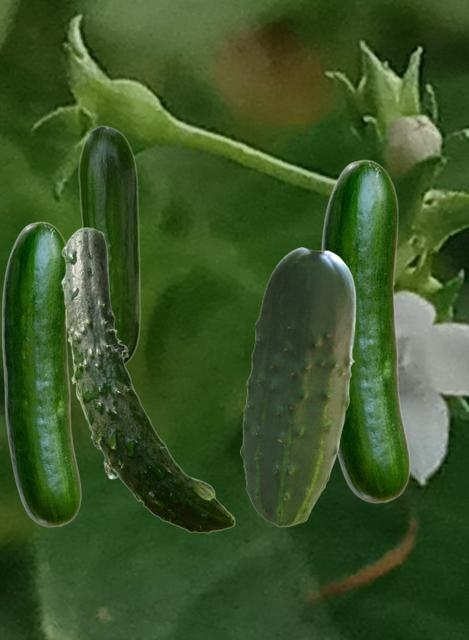cucumber: (60, 227, 234, 532), (240, 247, 355, 526), (320, 159, 409, 502), (1, 221, 80, 526), (78, 125, 140, 364)
